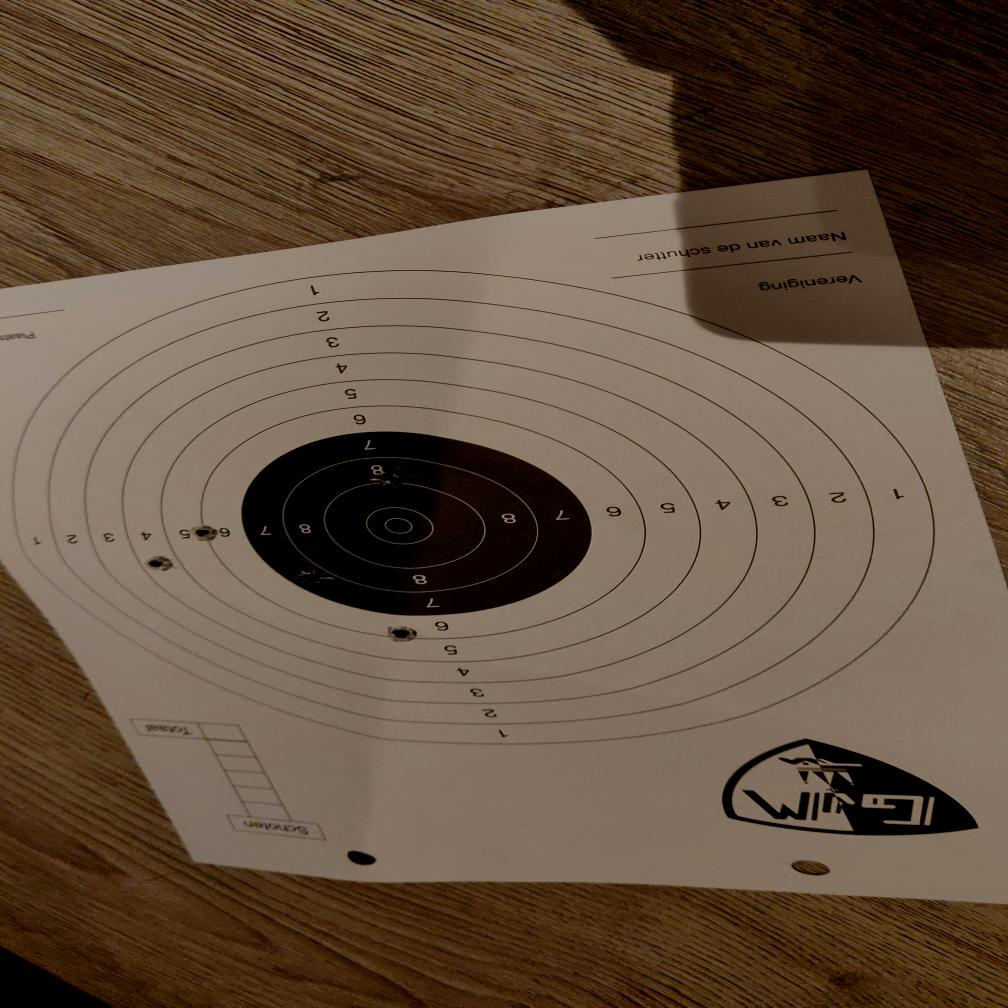4: (140, 554, 176, 572)
6: (188, 524, 222, 543), (384, 626, 417, 642)
7: (289, 566, 331, 586)
9: (365, 465, 416, 489)
Target: (0, 268, 934, 746)
black_contour: (239, 431, 591, 616)
